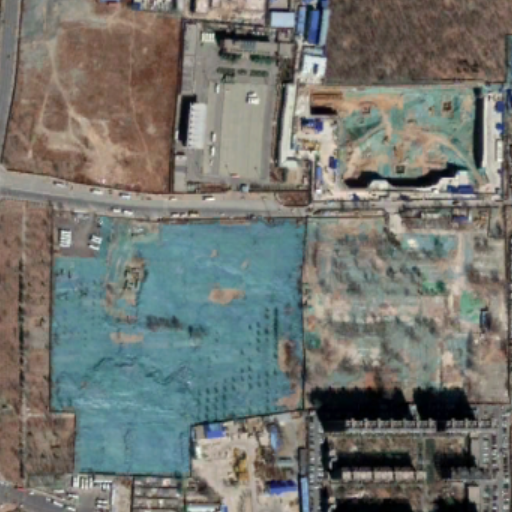cw: (53, 215, 512, 476), (335, 83, 483, 185)
